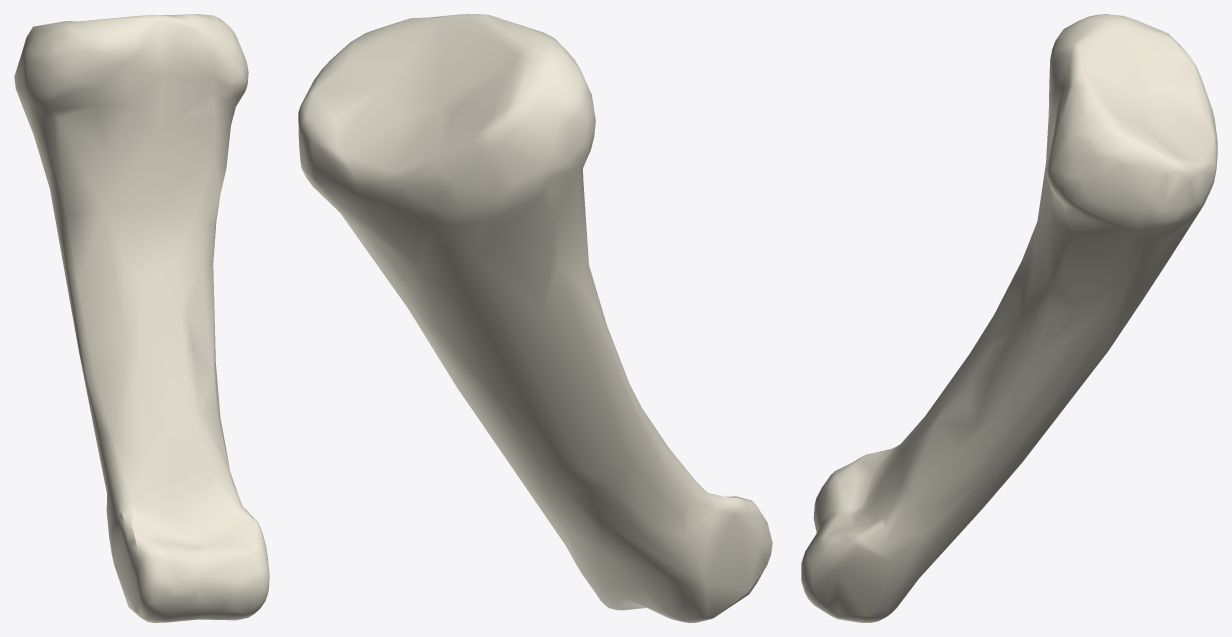
File: fma66791.glb
The picture shows the model from 3 angles, left to right: view 1: azimuth 30°, elevation 25°; view 2: azimuth 150°, elevation 25°; view 3: azimuth 270°, elevation 25°; orthographic projection. The views are drawn at different scales.
Visible parts, largest first — view 1: FMA66791; view 2: FMA66791; view 3: FMA66791.
Part boxes in pixels (left/top/right/bottom): FMA66791: left=14, top=14, right=269, bottom=622; FMA66791: left=298, top=14, right=772, bottom=622; FMA66791: left=801, top=14, right=1217, bottom=622.
Bounding box in the file's own units: 0.0144 × 0.0327 × 0.0211.
